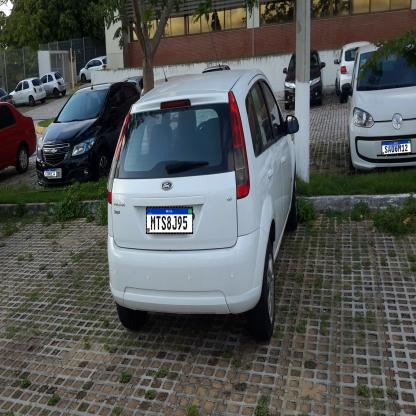PlacaM: (146, 207, 193, 234), (382, 140, 412, 156), (44, 169, 57, 177)
